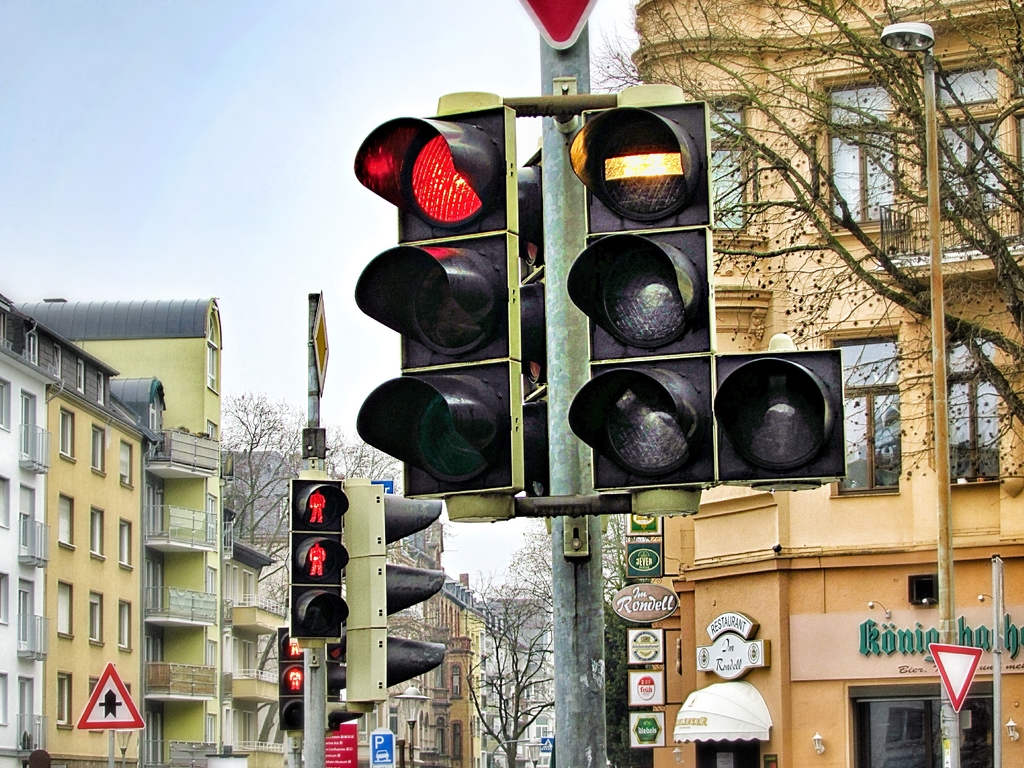red_light: (392, 123, 502, 484)
